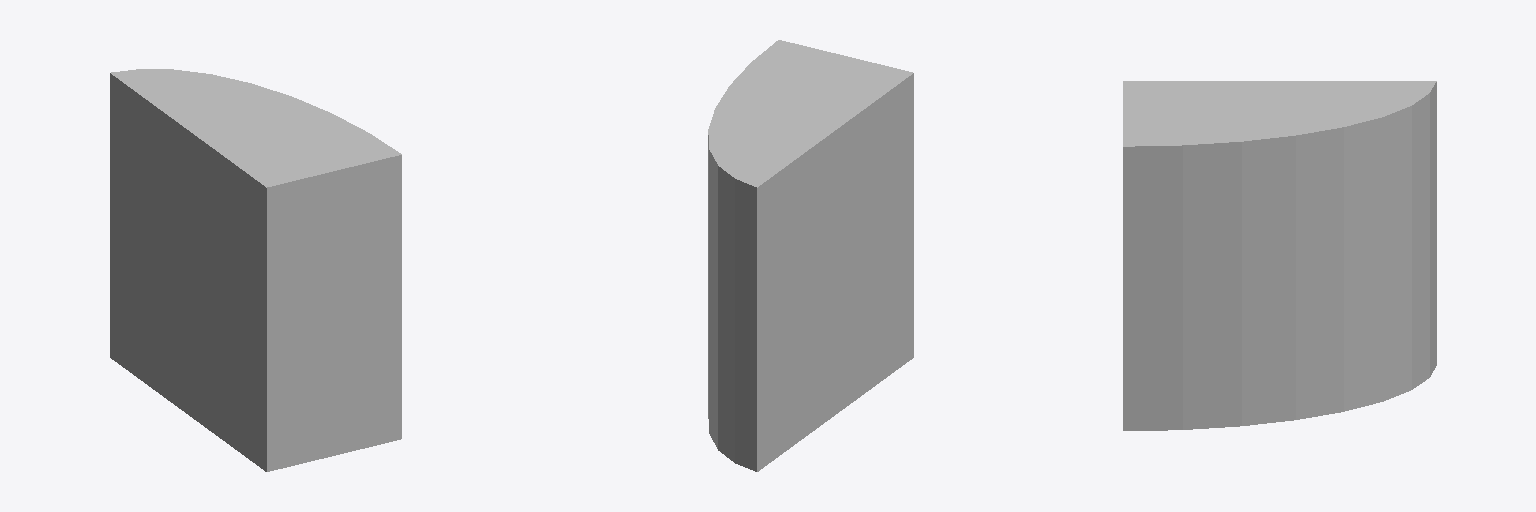
The model's file is half_radius_end_left.obj.
3 views of the same model, side by side, from view 1: azimuth 30°, elevation 25°; view 2: azimuth 150°, elevation 25°; view 3: azimuth 270°, elevation 25° (orthographic).
Visible parts, largest first — view 1: half_radius_end_left; view 2: half_radius_end_left; view 3: half_radius_end_left.
Boxes of the visible parts, box(x1,y1,x2,y2) form: half_radius_end_left: box(110, 69, 401, 471); half_radius_end_left: box(708, 40, 913, 471); half_radius_end_left: box(1123, 81, 1436, 430).
Size of the model in its own units: 0.9975 by 2 by 2.